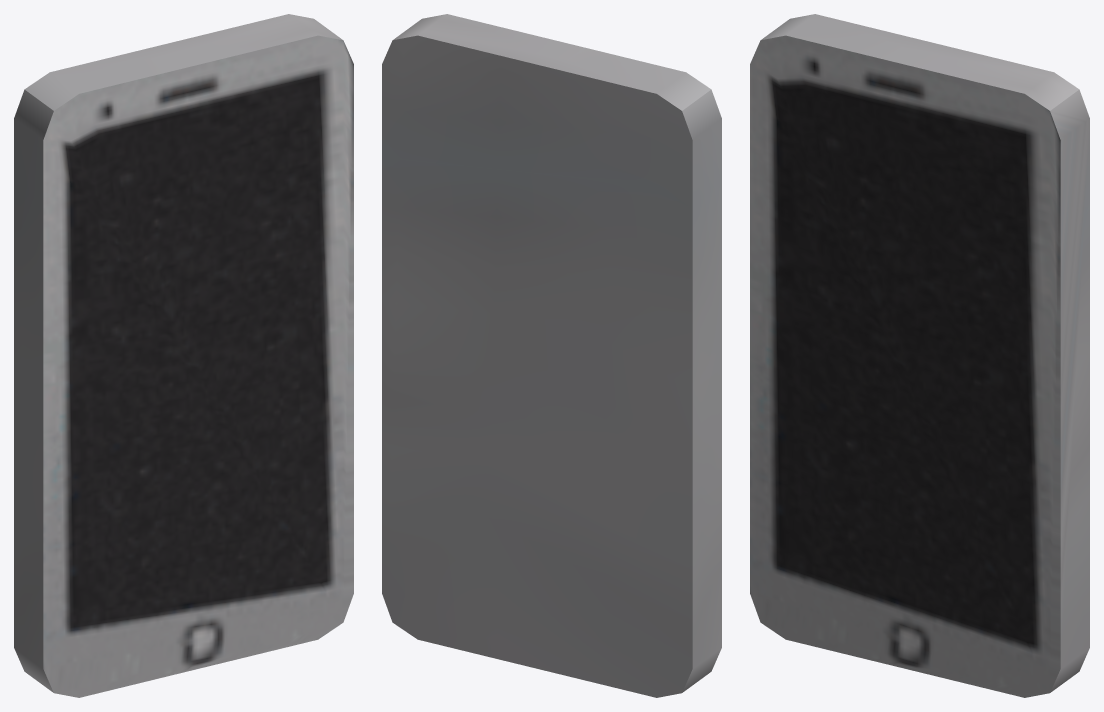
Rendered from Phone.fbx.
The picture shows the model from 3 angles, left to right: view 1: azimuth 30°, elevation 25°; view 2: azimuth 150°, elevation 25°; view 3: azimuth 330°, elevation 25°; orthographic projection.
Visible parts, largest first — view 1: pCube1; view 2: pCube1; view 3: pCube1.
Boxes of the visible parts, box(x1,y1,x2,y2) form: pCube1: box(14, 14, 353, 697); pCube1: box(382, 14, 721, 697); pCube1: box(750, 14, 1089, 697).
Size of the model in its own units: 1.01 by 1.87 by 0.1652.
Materials: 1 (1 with a texture image).
